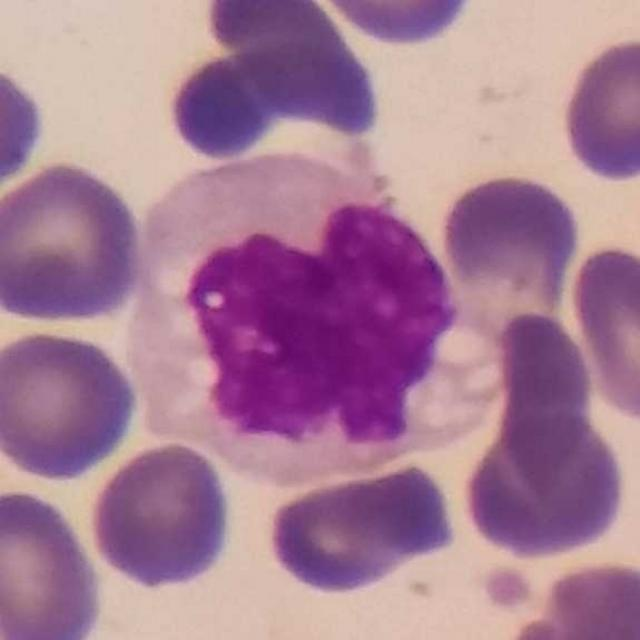Monocyte: (124, 155, 503, 488)
Platelets: (484, 566, 538, 616)
RBC: (157, 30, 385, 186), (260, 457, 462, 600), (458, 409, 632, 563), (0, 157, 149, 328), (86, 438, 238, 594), (200, 0, 383, 128), (0, 325, 144, 484), (435, 167, 586, 309), (0, 484, 107, 640), (492, 306, 599, 444), (565, 238, 640, 429), (555, 32, 640, 186), (520, 554, 640, 640), (299, 0, 486, 50), (0, 57, 50, 207)
